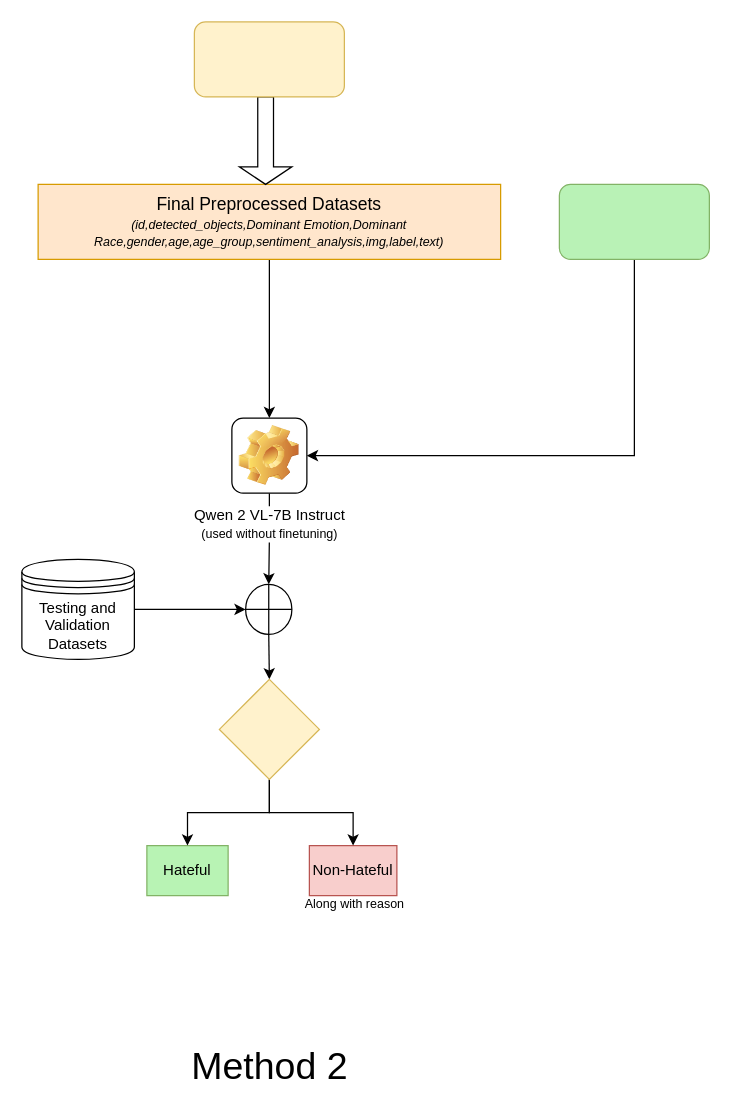
Some shapes in this 731 by 1119 pixel diagram are drawn without their labels. Each missing label, with the centre of its shape:
"Memes (image)" goes at [633,221].
"Pipeline 1" goes at [268,59].
"Result" goes at [268,728].
